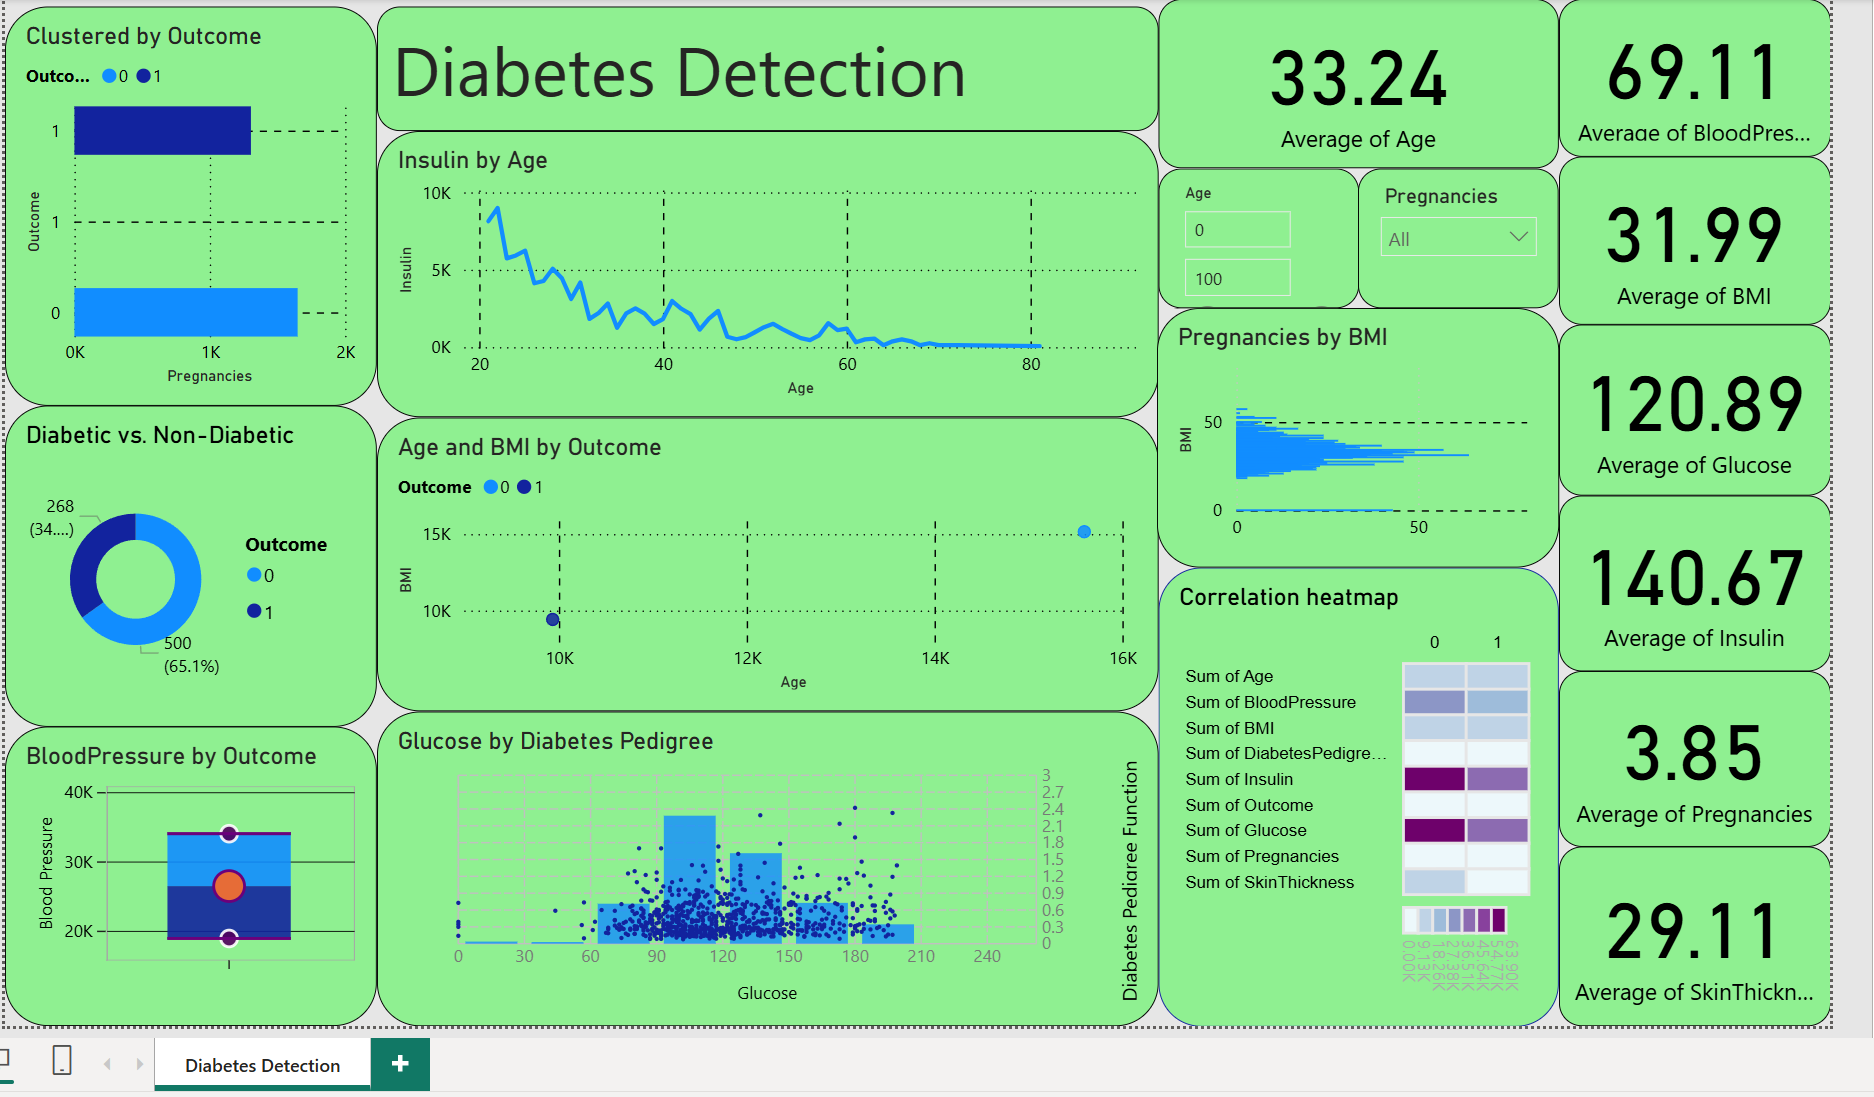

This screenshot's page, from the dashboard's own definition file:
{"tool":"powerbi","page":{"name":"Page 2","canvas":[1280,720],"ordinal":0},"visuals":[{"type":"histogramXY6E3D5691159E41859A007A262D4B0E9E","title":"Glucose by Diabetes Pedigree","fields":{"xAxis":["data.Glucose"],"yAxis":["data.DiabetesPedigreeFunction"]},"box":[273.4,510,526.9,210.3],"z":0},{"type":"barChart","title":" Clustered by Outcome","fields":{"Y":["Sum(data.Pregnancies)"],"Category":["data.Outcome"],"Series":["data.Outcome"]},"box":[0,5.3,260.8,279.7],"z":1000},{"type":"scatterChart","title":"Age and BMI by Outcome","fields":{"X":["Sum(data.Age)"],"Y":["Sum(data.BMI)"],"Series":["data.Outcome"]},"box":[273.4,293.4,526.9,206.1],"z":2000},{"type":"BoxandWhiskerByMAQ1823AD39DT234AB532063E128AX","title":"BloodPressure by Outcome","fields":{"category":["data.Outcome"],"measure":["Sum(data.BloodPressure)"]},"box":[0,510,260.8,210.3],"z":3000},{"type":"TableHeatMap1443716069308","title":"Correlation heatmap","fields":{"Y":["Sum(data.Age)","Sum(data.BloodPressure)","Sum(data.BMI)","Sum(data.DiabetesPedigreeFunction)","Sum(data.Insulin)","Sum(data.Outcome)","Sum(data.Glucose)","Sum(data.Pregnancies)","Sum(data.SkinThickness)"],"Category":["data.Outcome"]},"box":[808.7,398.6,280.8,321.8],"z":4000},{"type":"lineChart","title":"Insulin by Age","fields":{"Y":["Sum(data.Insulin)"],"Category":["data.Age"]},"box":[273.4,105.2,526.9,177.7],"z":5000},{"type":"donutChart","title":"Diabetic vs. Non-Diabetic","fields":{"Category":["data.Outcome"],"Y":["CountNonNull(data.Outcome)"]},"box":[0,293.4,260.8,206.1],"z":6000},{"type":"barChart","title":"Pregnancies by BMI","fields":{"Y":["Sum(data.Pregnancies)"],"Category":["data.BMI"]},"box":[807.6,216.6,281.8,177.7],"z":7000},{"type":"slicer","fields":{"Values":["data.Age"]},"box":[808.7,118.8,130.4,89.4],"z":8000},{"type":"slicer","fields":{"Values":["data.Pregnancies"]},"box":[948.6,118.8,132.5,89.4],"z":9000},{"type":"card","fields":{"Values":["Avg(data.Glucose)"]},"box":[1097.9,237.7,181.9,110.4],"z":10000},{"type":"card","fields":{"Values":["Avg(data.Insulin)"]},"box":[1097.9,359.7,181.9,111.5],"z":11000},{"type":"card","fields":{"Values":["Avg(data.Pregnancies)"]},"box":[1097.9,482.7,181.9,111.5],"z":12000},{"type":"card","fields":{"Values":["Avg(data.SkinThickness)"]},"box":[1097.9,609.9,181.9,110.4],"z":13000},{"type":"card","fields":{"Values":["Avg(data.BMI)"]},"box":[1097.9,117.8,181.9,110.4],"z":14000},{"type":"textbox","box":[273.4,5.3,526.9,89.4],"z":14001},{"type":"card","fields":{"Values":["Avg(data.BloodPressure)"]},"box":[1097.9,0,181.9,110.4],"z":14002},{"type":"card","fields":{"Values":["Avg(data.Age)"]},"box":[808.7,0,272.4,110.4],"z":14003}]}

Visuals, with their boxes in screenshot pixels (x1, y1, x2, y2):
"Glucose by Diabetes Pedigree" histogramXY6E3D5691159E41859A007A262D4B0E9E: <box>380,722,1141,1025</box>
" Clustered by Outcome" barChart: <box>0,0,362,397</box>
"Age and BMI by Outcome" scatterChart: <box>380,409,1141,707</box>
"BloodPressure by Outcome" BoxandWhiskerByMAQ1823AD39DT234AB532063E128AX: <box>0,722,362,1025</box>
"Correlation heatmap" TableHeatMap1443716069308: <box>1153,561,1558,1025</box>
"Insulin by Age" lineChart: <box>380,137,1141,394</box>
"Diabetic vs. Non-Diabetic" donutChart: <box>0,409,362,707</box>
"Pregnancies by BMI" barChart: <box>1151,298,1558,555</box>
slicer - data.Age: <box>1153,157,1341,286</box>
slicer - data.Pregnancies: <box>1355,157,1546,286</box>
card - Avg(data.Glucose): <box>1571,329,1833,488</box>
card - Avg(data.Insulin): <box>1571,505,1833,666</box>
card - Avg(data.Pregnancies): <box>1571,682,1833,843</box>
card - Avg(data.SkinThickness): <box>1571,866,1833,1025</box>
card - Avg(data.BMI): <box>1571,155,1833,315</box>
textbox: <box>380,0,1141,122</box>
card - Avg(data.BloodPressure): <box>1571,0,1833,145</box>
card - Avg(data.Age): <box>1153,0,1546,145</box>
